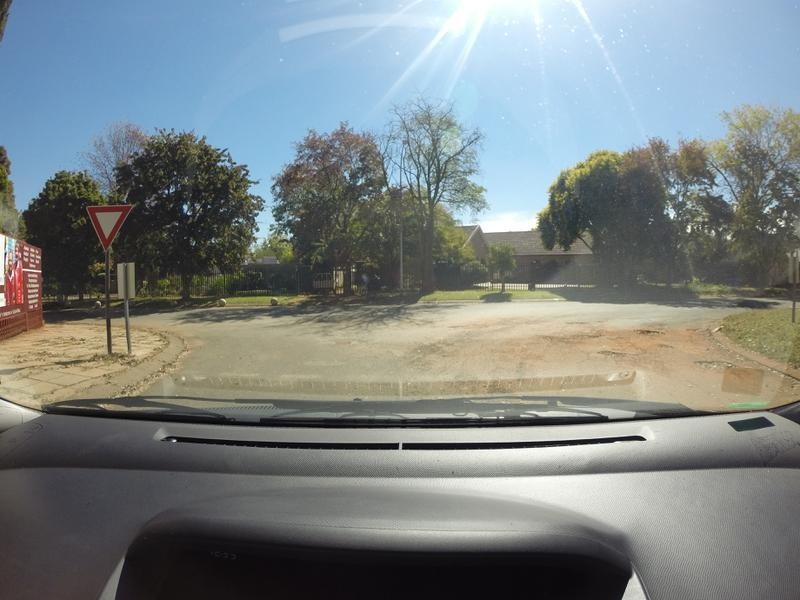pothole: (700, 354, 734, 381), (598, 345, 634, 363), (577, 326, 605, 339), (636, 325, 662, 338)
